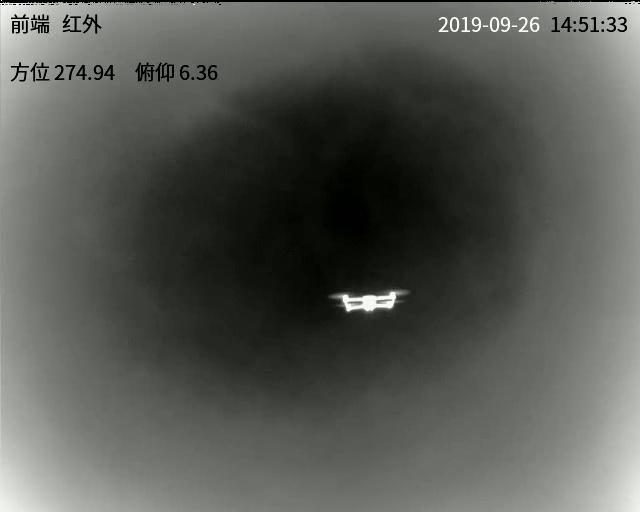DRONE: (333, 290, 404, 311)
